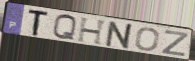H: (76, 17, 109, 47)
N: (104, 20, 136, 51)
O: (134, 26, 161, 52)
Q: (51, 14, 78, 42)
T: (27, 9, 51, 37)
Z: (160, 30, 190, 58)
